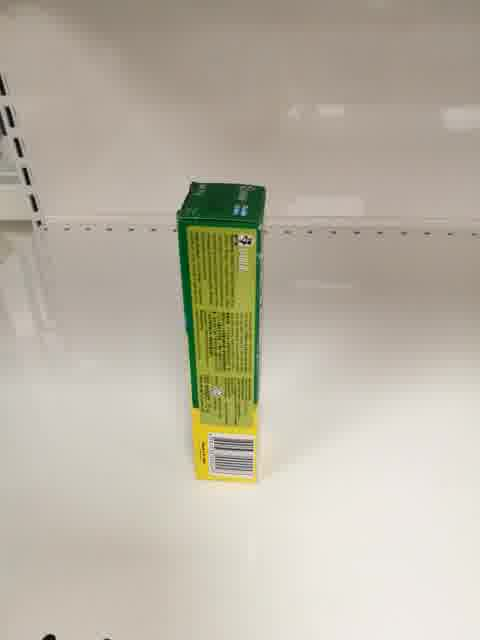toothpaste: (176, 183, 268, 485)
